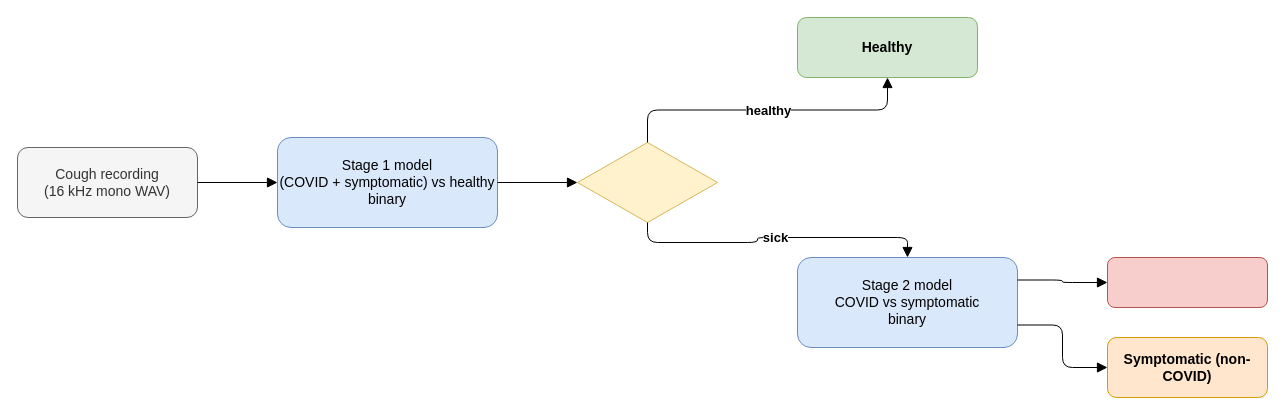
This 1285x415 diagram has some shape labels left out. The centre of each missing label's shape, as x and y in pixels:
COVID-19: the point at 1187,282
flagged sick?: the point at 647,182
